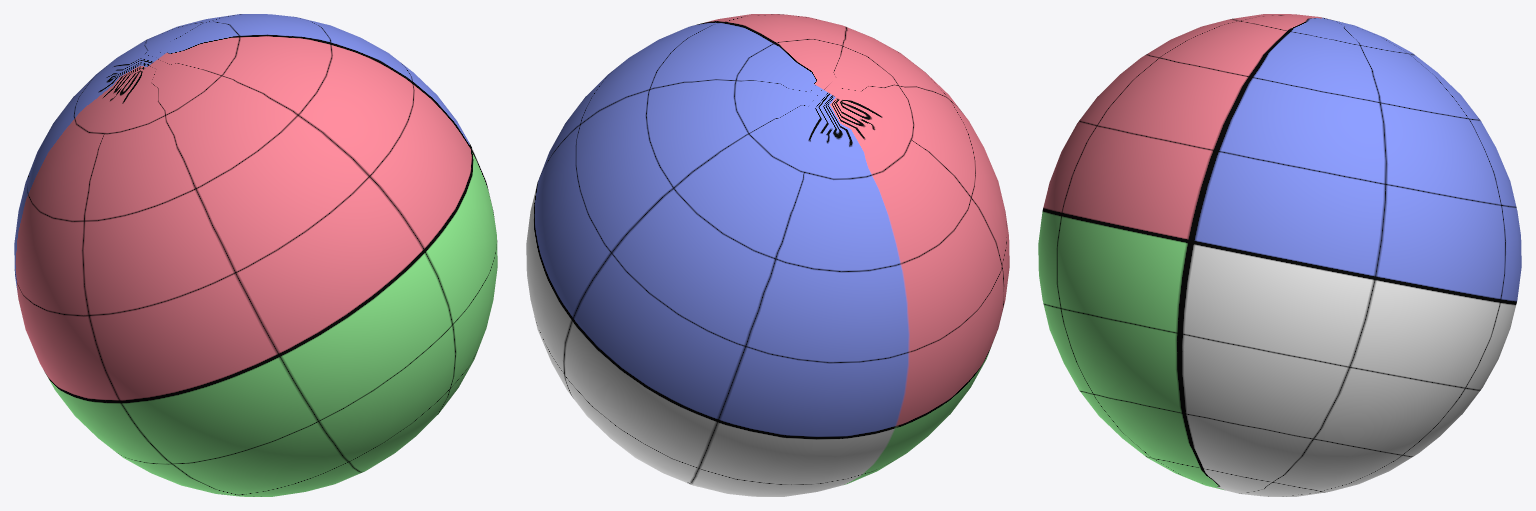
3 views of the same model, side by side, from view 1: azimuth 30°, elevation 25°; view 2: azimuth 150°, elevation 25°; view 3: azimuth 270°, elevation 25° (orthographic).
Bounding box in the file's own units: 2 × 1.99 × 2.
Materials: 1 (1 with a texture image).
